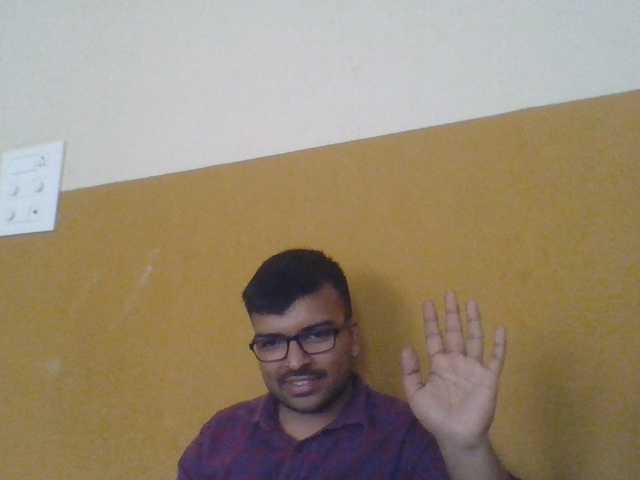Hello: (384, 278, 531, 445)
